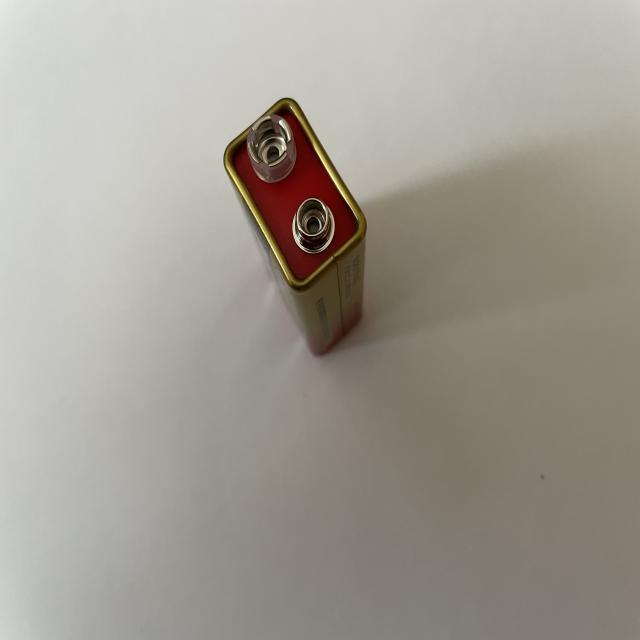9V: (221, 96, 367, 356)
